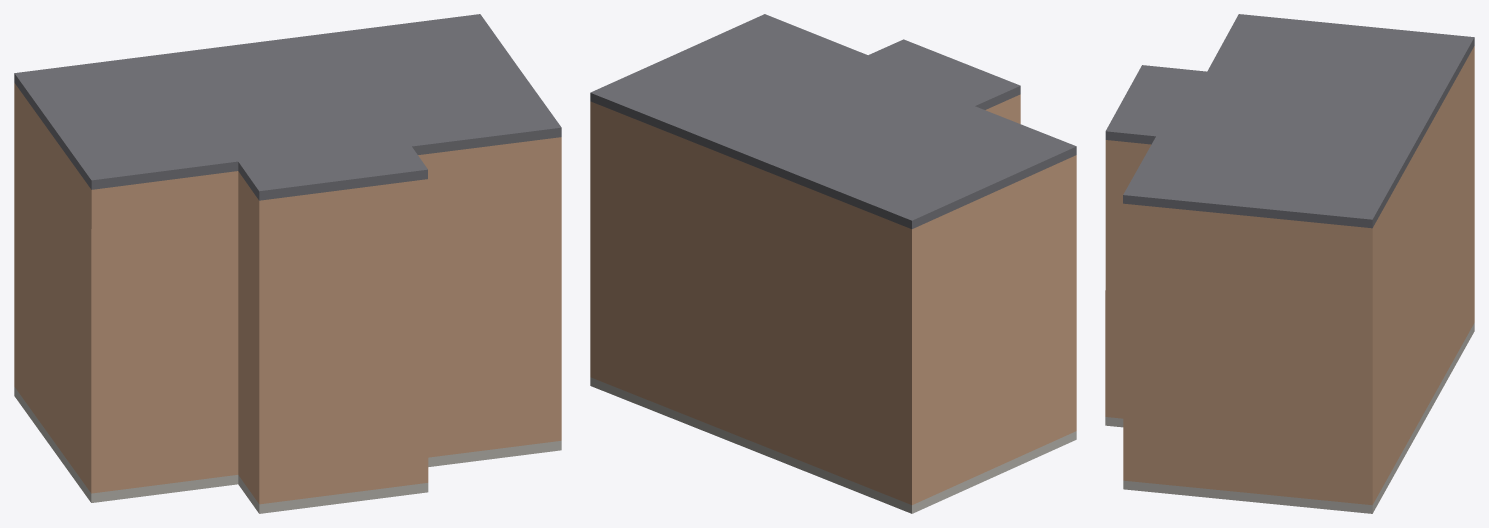
Rendered from sweet_rose.glb.
3 views of the same model, side by side, from view 1: azimuth 30°, elevation 25°; view 2: azimuth 150°, elevation 25°; view 3: azimuth 270°, elevation 25° (orthographic). The views are drawn at different scales.
Parts seen in each view (by area): view 1: sweet_rose_walls, sweet_rose_roof, sweet_rose_plinth; view 2: sweet_rose_walls, sweet_rose_roof, sweet_rose_plinth; view 3: sweet_rose_walls, sweet_rose_roof, sweet_rose_plinth.
Part boxes in pixels (bbox=[...]): sweet_rose_walls: bbox=[14, 83, 561, 504]; sweet_rose_roof: bbox=[14, 14, 561, 200]; sweet_rose_plinth: bbox=[14, 387, 561, 513]; sweet_rose_walls: bbox=[590, 94, 1076, 504]; sweet_rose_roof: bbox=[590, 14, 1076, 228]; sweet_rose_plinth: bbox=[590, 377, 1076, 513]; sweet_rose_walls: bbox=[1105, 46, 1474, 505]; sweet_rose_roof: bbox=[1105, 14, 1474, 228]; sweet_rose_plinth: bbox=[1105, 323, 1474, 513].
Bounding box in the file's own units: 15.18 × 10.13 × 11.51.
